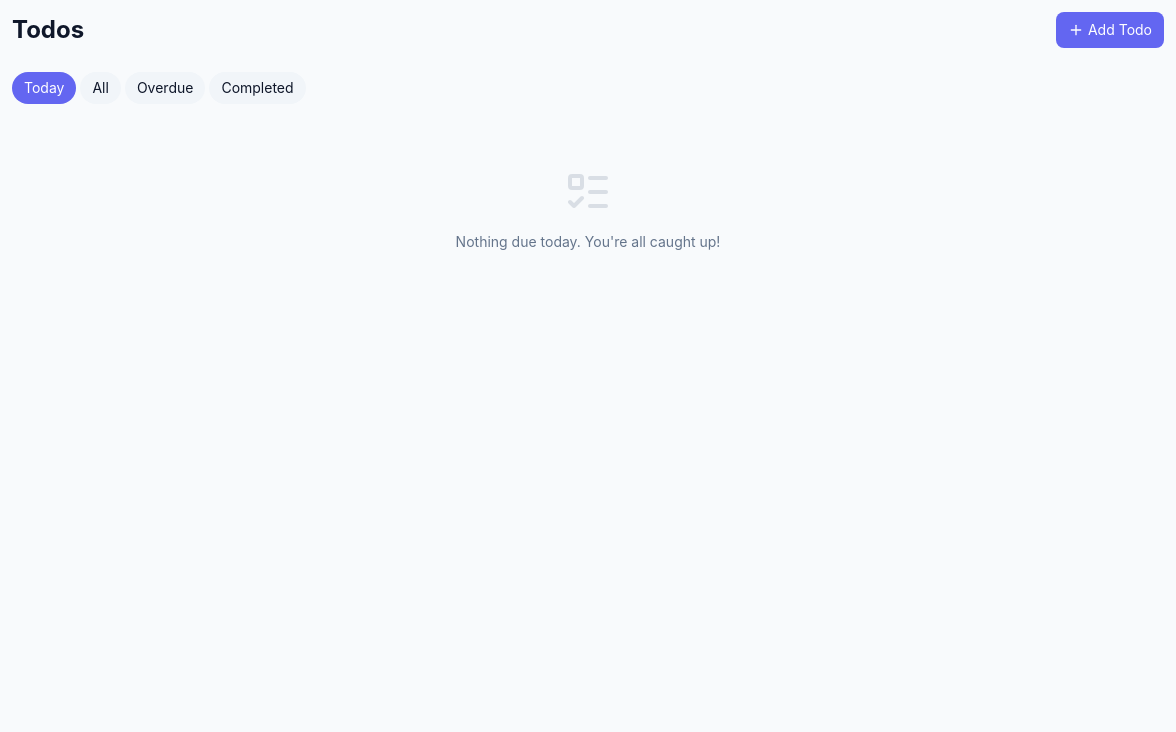
TodosPage › shows add form when button clicked
Click the button "Add Todo".
click(1110, 30)  # box [1056,12,1164,48]
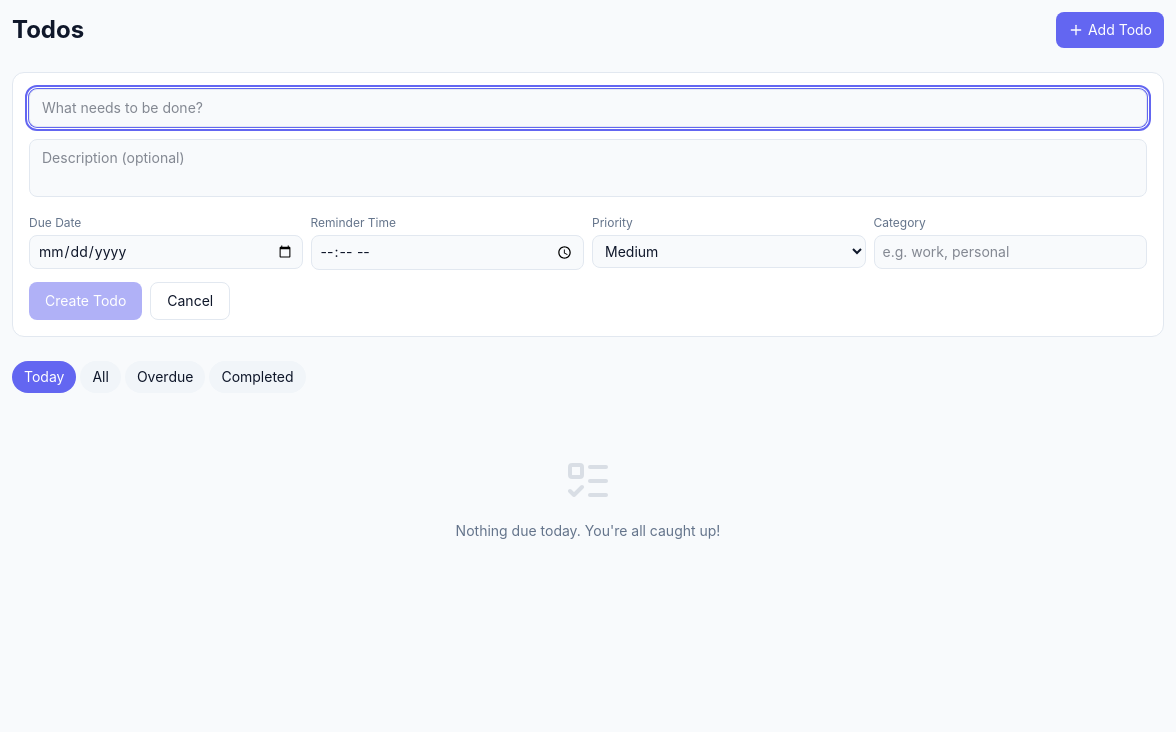
expect the field with placeholder "What needs to be done?" is shown: met, box [29,89,1147,127]
expect the button "Create Todo" is shown: met, box [29,282,142,320]
expect the button "Cancel" is shown: met, box [150,282,230,320]
